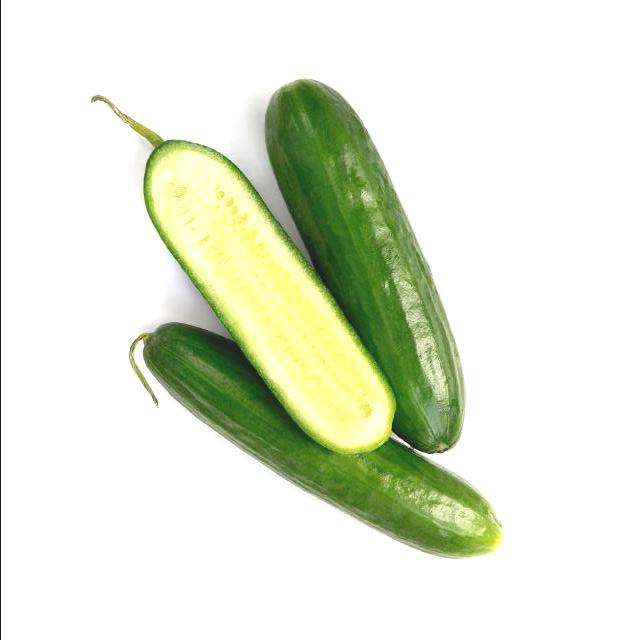cucumber: (141, 321, 505, 562), (258, 76, 470, 451)
